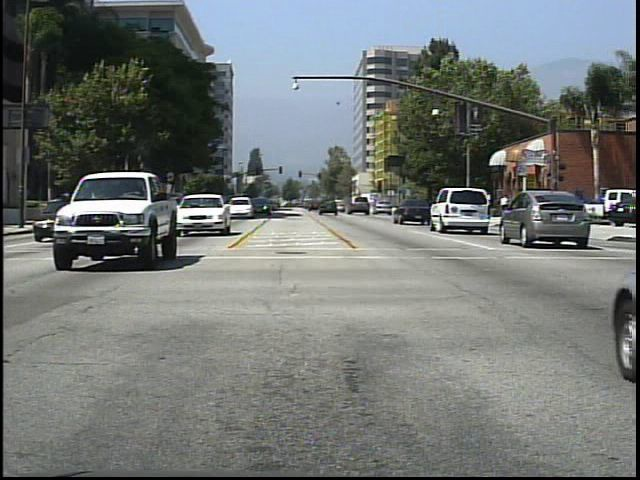person: (456, 192, 474, 227), (506, 189, 507, 228)
